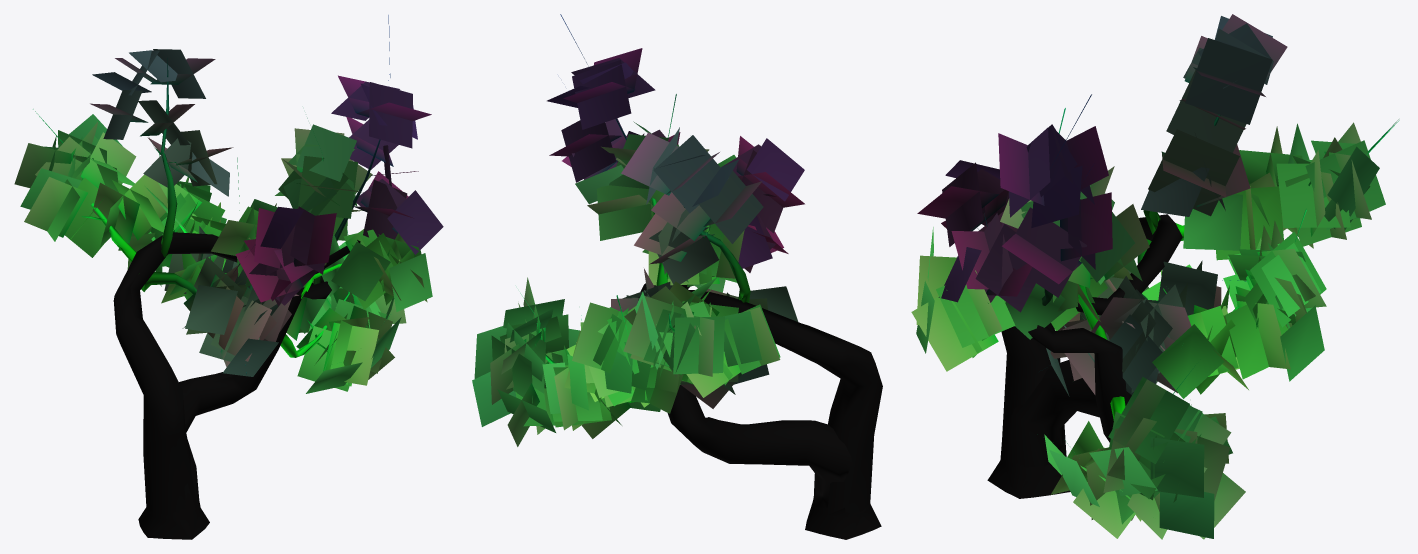
File: Tree_9.fbx
The picture shows the model from 3 angles, left to right: view 1: azimuth 30°, elevation 25°; view 2: azimuth 150°, elevation 25°; view 3: azimuth 270°, elevation 25°; orthographic projection. The views are drawn at different scales.
Visible parts, largest first — view 1: Tree_1; view 2: Tree_1; view 3: Tree_1.
Part boxes in pixels (x1,y1,x2,y2): Tree_1: (14,15,443,539); Tree_1: (472,14,882,539); Tree_1: (911,14,1399,539).
Bounding box in the file's own units: 752 × 980 × 828.
